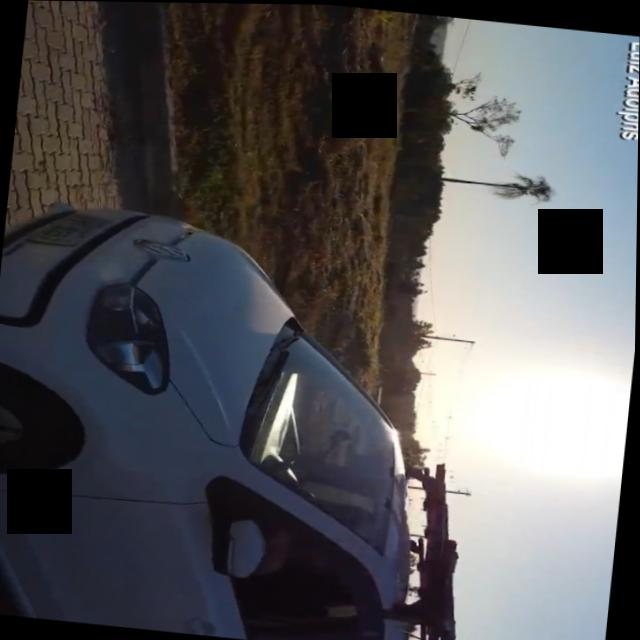Vehicle: (0, 196, 460, 640)
